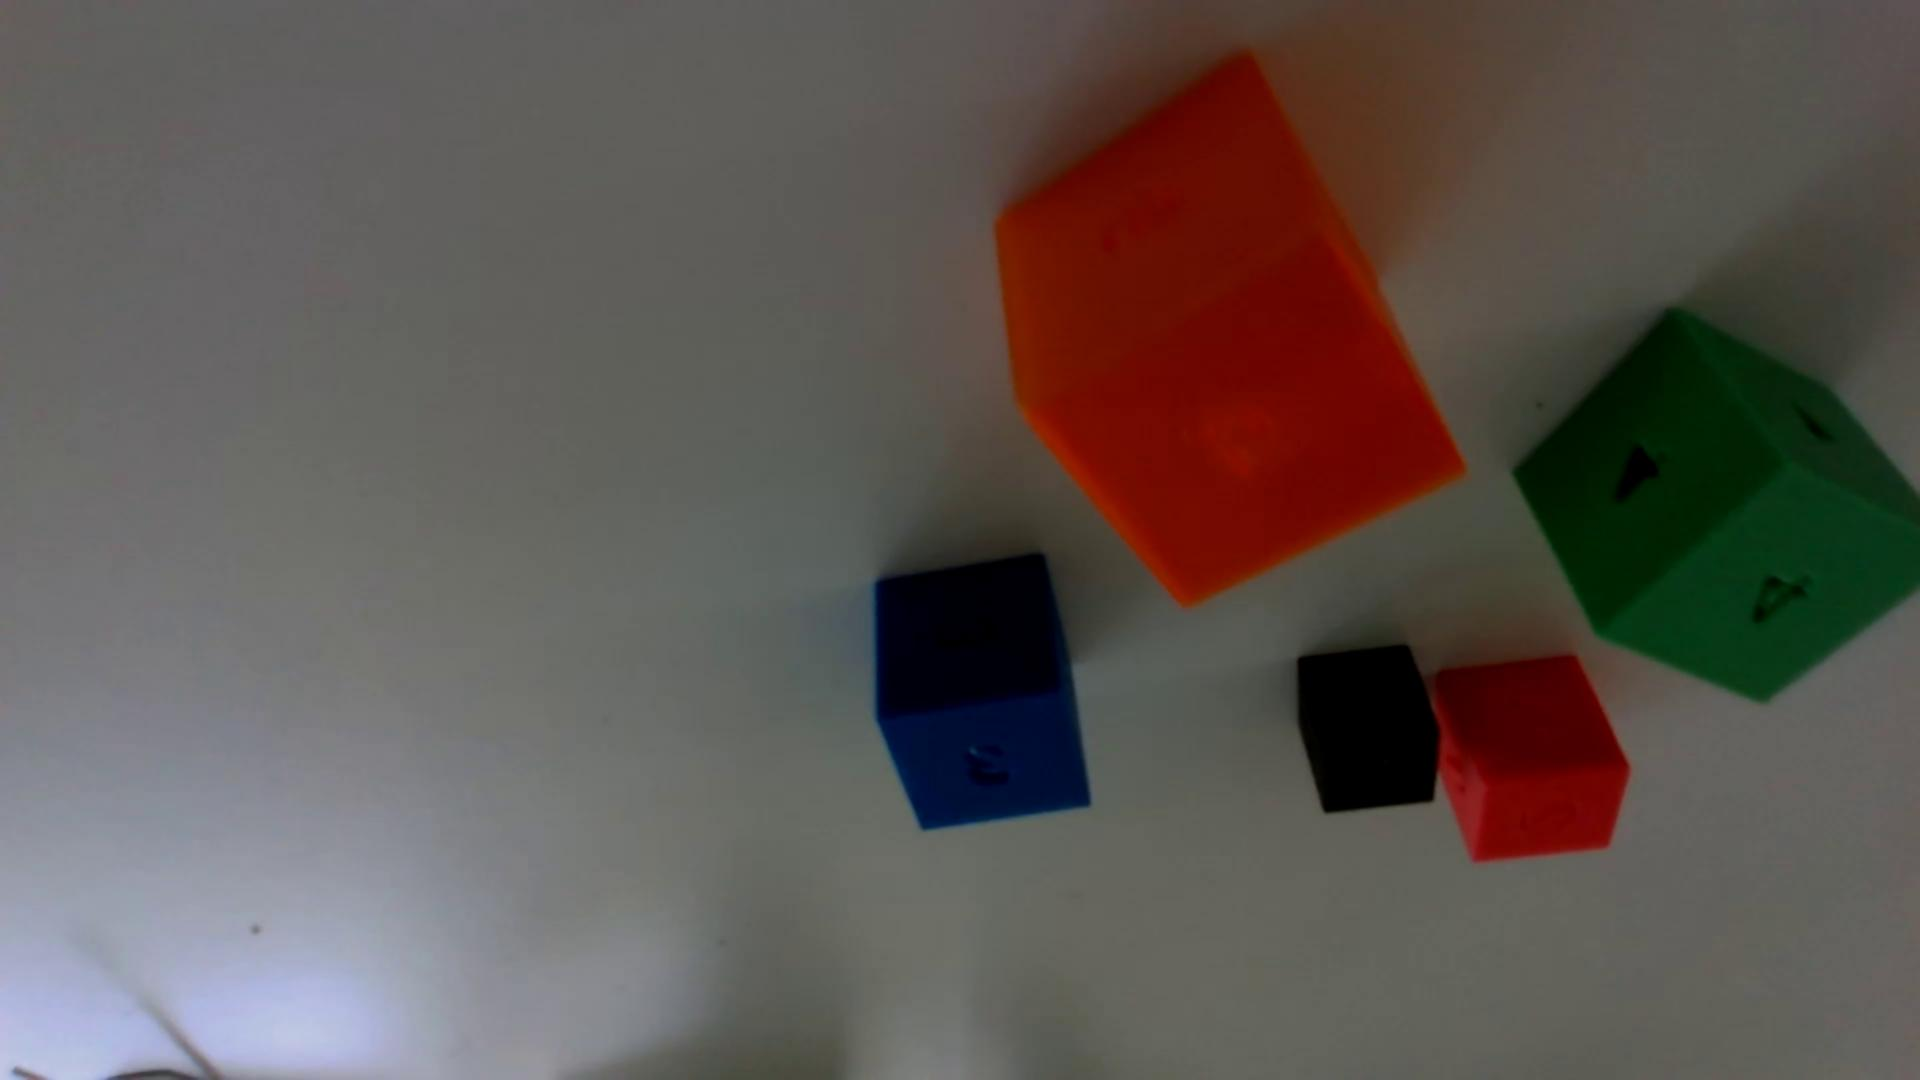black: (1296, 644, 1437, 814)
blue: (874, 553, 1091, 829)
green: (1515, 309, 1920, 700)
orange: (996, 55, 1464, 604)
red: (1431, 655, 1629, 862)
